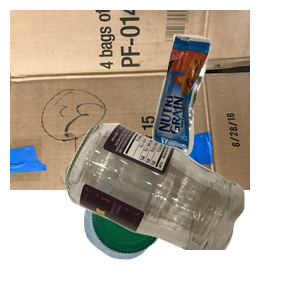cardboard: (10, 10, 250, 190)
glass: (62, 120, 300, 300)
plastic: (81, 179, 239, 300)
trash: (149, 31, 300, 179)
